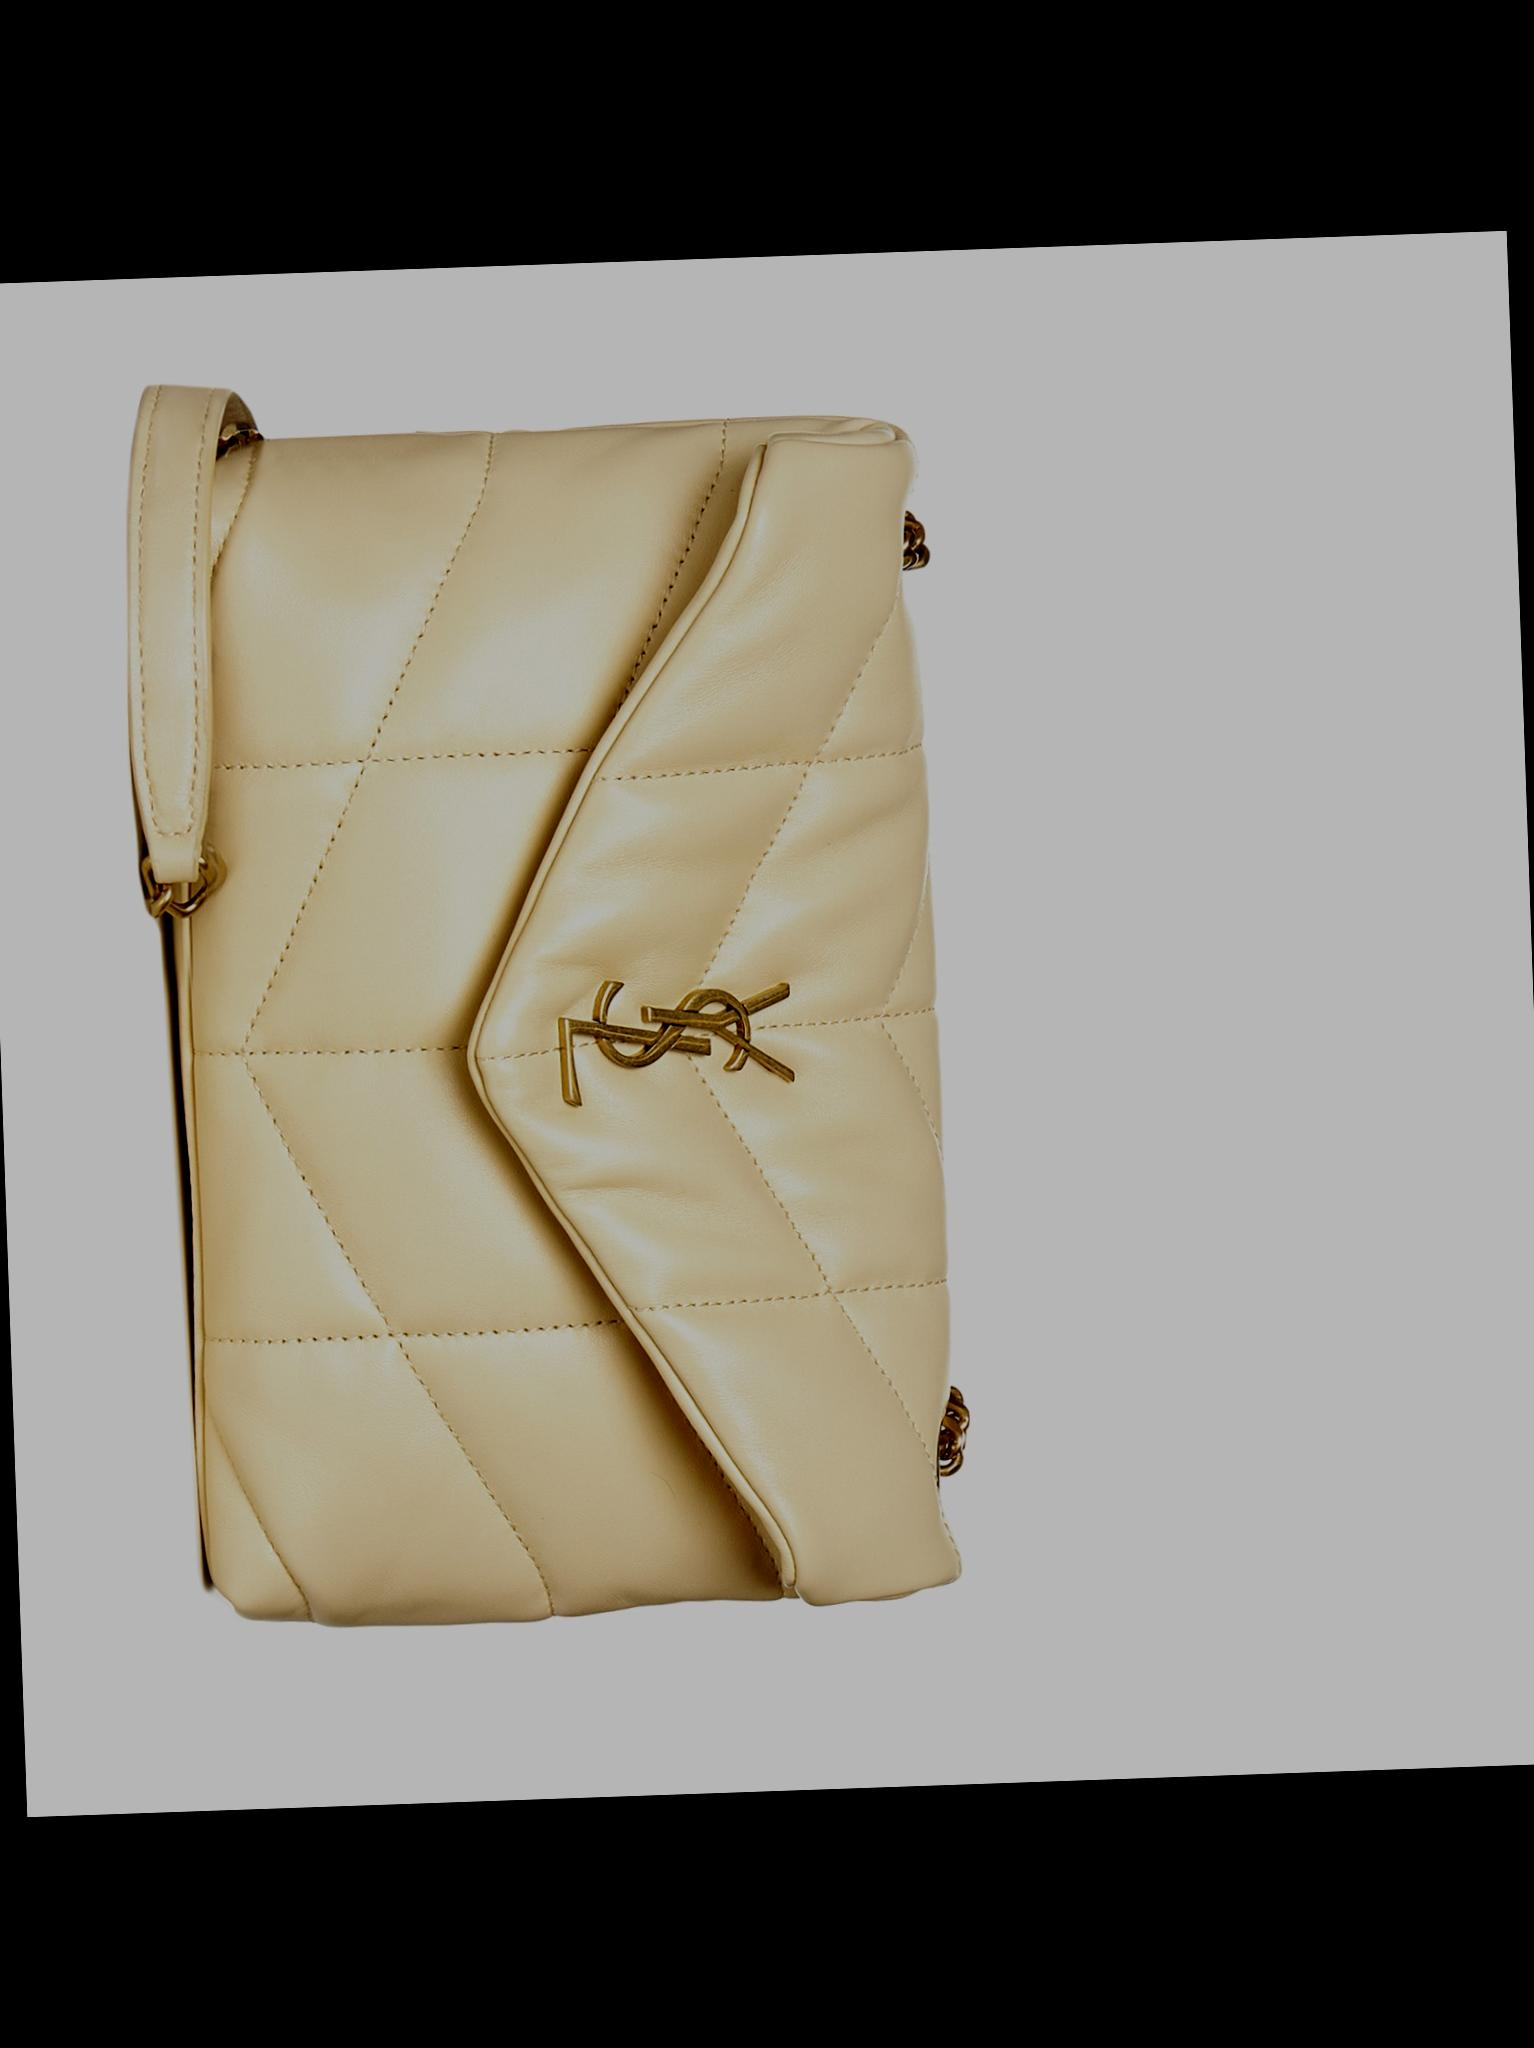YVES-SAINT-LAURENT: (558, 973, 793, 1109)
